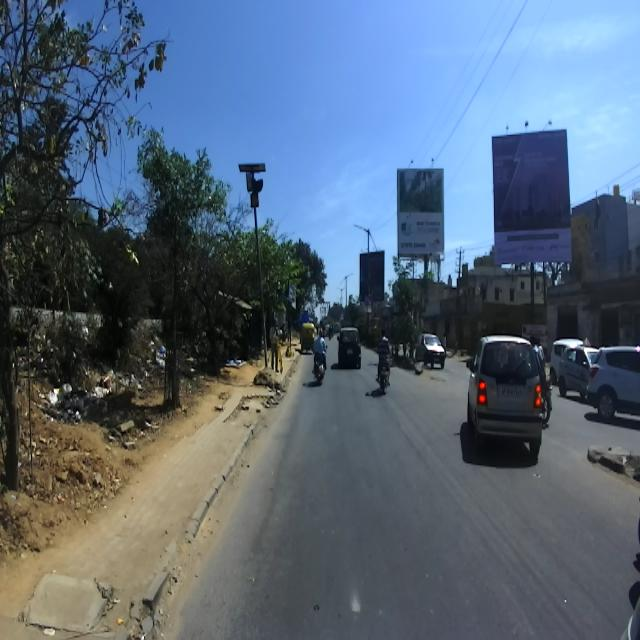car ahead at: (462, 328, 552, 465)
